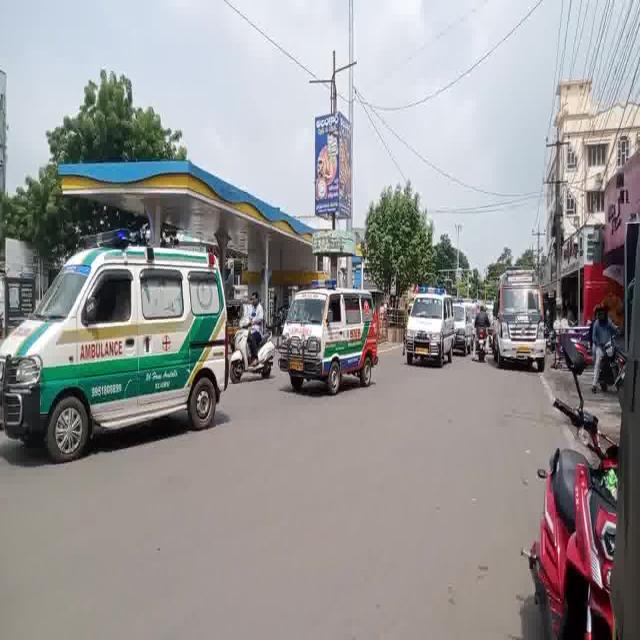ambulance: (2, 226, 226, 442), (278, 280, 378, 399), (491, 262, 550, 364), (404, 286, 458, 369)
